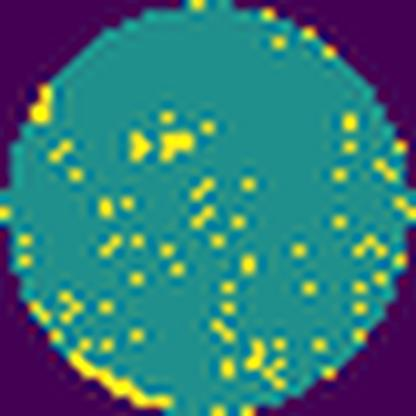Edge-Loc: (62, 347, 177, 409), (29, 82, 60, 123)
